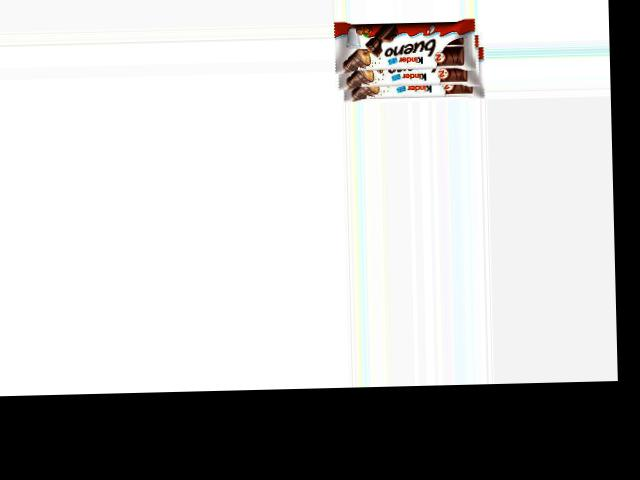chocolate: (337, 17, 483, 101)
